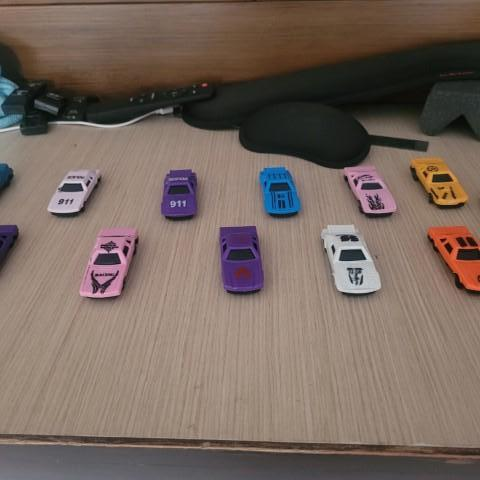car: (77, 226, 142, 298), (318, 222, 382, 294), (427, 222, 480, 292), (215, 224, 267, 295), (340, 163, 400, 214), (411, 157, 470, 207), (47, 163, 102, 216), (257, 166, 303, 217), (160, 165, 200, 219)
